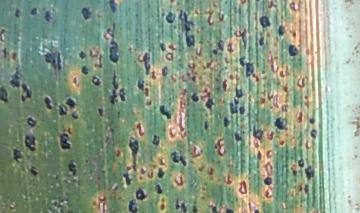tarspot: (176, 9, 197, 49), (104, 20, 120, 65), (237, 55, 261, 83), (125, 137, 140, 174), (228, 83, 243, 115), (42, 49, 63, 71), (136, 51, 153, 76), (87, 48, 104, 70), (233, 28, 249, 51), (9, 63, 22, 90), (109, 67, 118, 106), (168, 150, 188, 167), (23, 131, 37, 152), (271, 116, 289, 132), (58, 132, 73, 151), (158, 103, 173, 121), (11, 148, 25, 166), (211, 39, 225, 57), (67, 159, 80, 178), (20, 84, 33, 103), (251, 122, 264, 140), (202, 9, 215, 27), (258, 14, 271, 30), (304, 163, 316, 180), (134, 186, 146, 203), (121, 170, 133, 187), (57, 102, 70, 117), (164, 9, 176, 25), (80, 7, 93, 21), (127, 198, 139, 213), (63, 97, 78, 109), (43, 8, 54, 24), (135, 121, 146, 137), (117, 86, 127, 103), (204, 97, 217, 110), (189, 90, 201, 104), (178, 198, 189, 213), (43, 95, 53, 111), (295, 109, 305, 125), (287, 43, 299, 56), (289, 1, 302, 13), (200, 86, 212, 99), (1, 85, 9, 104), (135, 76, 145, 91), (25, 116, 37, 128), (232, 131, 244, 143), (108, 1, 119, 14), (225, 41, 236, 54), (216, 11, 227, 24), (151, 133, 161, 147), (71, 75, 81, 89), (156, 165, 165, 180), (29, 165, 40, 177), (263, 174, 273, 187), (222, 116, 232, 129), (91, 75, 101, 88), (1, 26, 7, 47), (29, 6, 40, 17), (153, 183, 164, 194), (77, 49, 88, 60), (309, 128, 319, 140), (13, 8, 23, 20), (277, 24, 286, 37), (80, 64, 89, 77), (70, 110, 80, 121), (289, 165, 298, 177), (160, 65, 169, 77), (149, 69, 158, 81), (297, 157, 306, 168), (96, 106, 105, 117), (221, 78, 228, 92), (258, 35, 266, 47), (238, 104, 246, 116), (159, 41, 167, 53), (174, 197, 181, 210), (303, 182, 310, 195), (256, 148, 262, 162), (308, 117, 317, 126), (144, 98, 153, 107), (281, 84, 290, 93), (210, 205, 220, 213), (267, 1, 277, 9), (278, 138, 286, 148), (2, 47, 8, 60), (203, 119, 210, 130), (142, 86, 149, 97), (10, 51, 17, 61), (224, 206, 234, 213), (228, 72, 235, 82), (191, 204, 198, 213), (291, 30, 298, 39), (302, 94, 311, 101), (298, 184, 304, 193), (190, 74, 196, 82), (238, 1, 248, 5), (253, 208, 260, 213), (223, 1, 229, 6), (168, 1, 175, 4), (253, 1, 262, 2)
